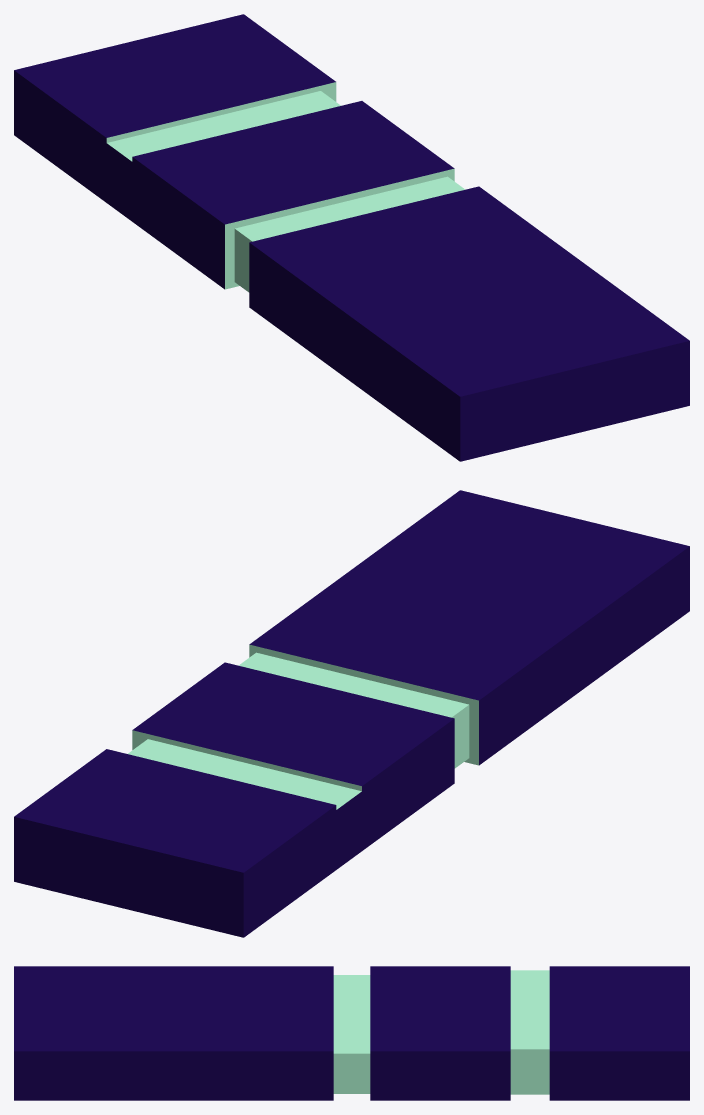
File: Platform13_OtherPivot.fbx
3 views of the same model, one above another, from view 1: azimuth 30°, elevation 25°; view 2: azimuth 150°, elevation 25°; view 3: azimuth 270°, elevation 25° (orthographic). The views are drawn at different scales.
Visible parts, largest first — view 1: Box081; view 2: Box081; view 3: Box081.
Part boxes in pixels (x1,y1,x2,y2): Box081: (14,14,689,461); Box081: (14,490,689,937); Box081: (14,966,689,1100).
Bounding box in the file's own units: 84.56 × 22.86 × 284.
